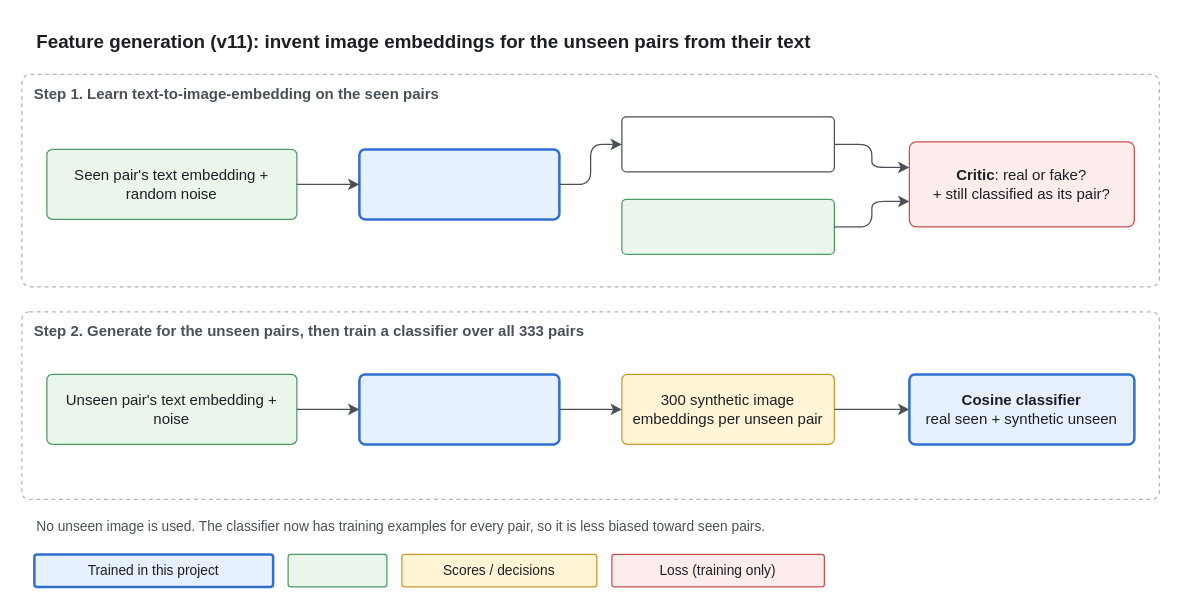
Some shapes in this 1181 by 609 pixel diagram are drawn without their labels. Each missing label, with the centre of its shape:
"Data in" belongs at pixel 337 570.
"Fake image embedding" belongs at pixel 727 144.
"Generator (from step 1)" belongs at pixel 459 408.
"Generator 2-layer network" belongs at pixel 459 184.
"Real image embedding of that pair" belongs at pixel 727 226.
